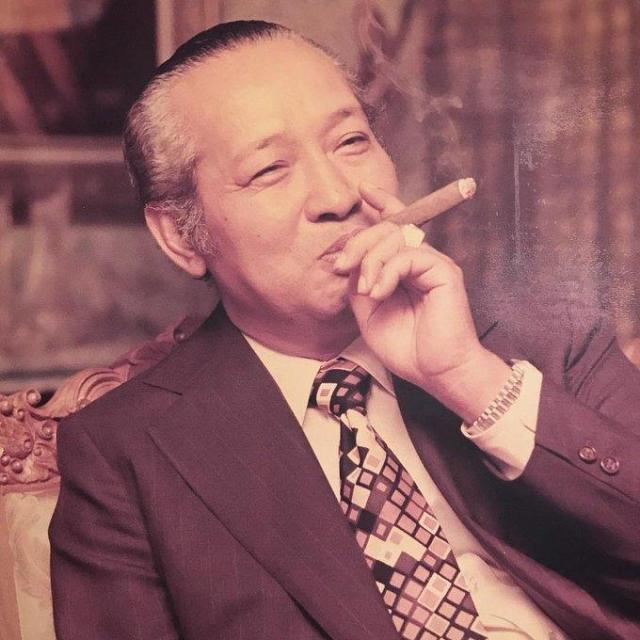rokok: (383, 174, 483, 226)
